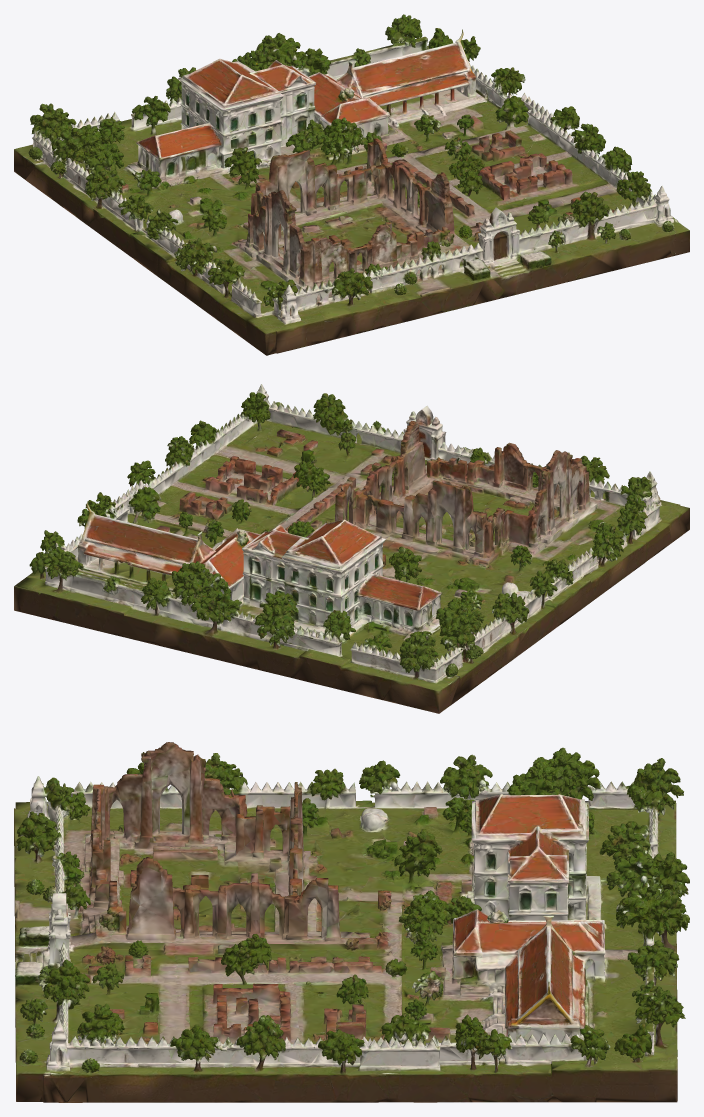
The model's file is narai-palace.glb.
3 renders of one model, top to bottom at view 1: azimuth 30°, elevation 25°; view 2: azimuth 150°, elevation 25°; view 3: azimuth 270°, elevation 25°, orthographic. The views are drawn at different scales.
Size of the model in its own units: 1.89 by 0.4327 by 1.9.
Materials: 1 (1 with a texture image).
